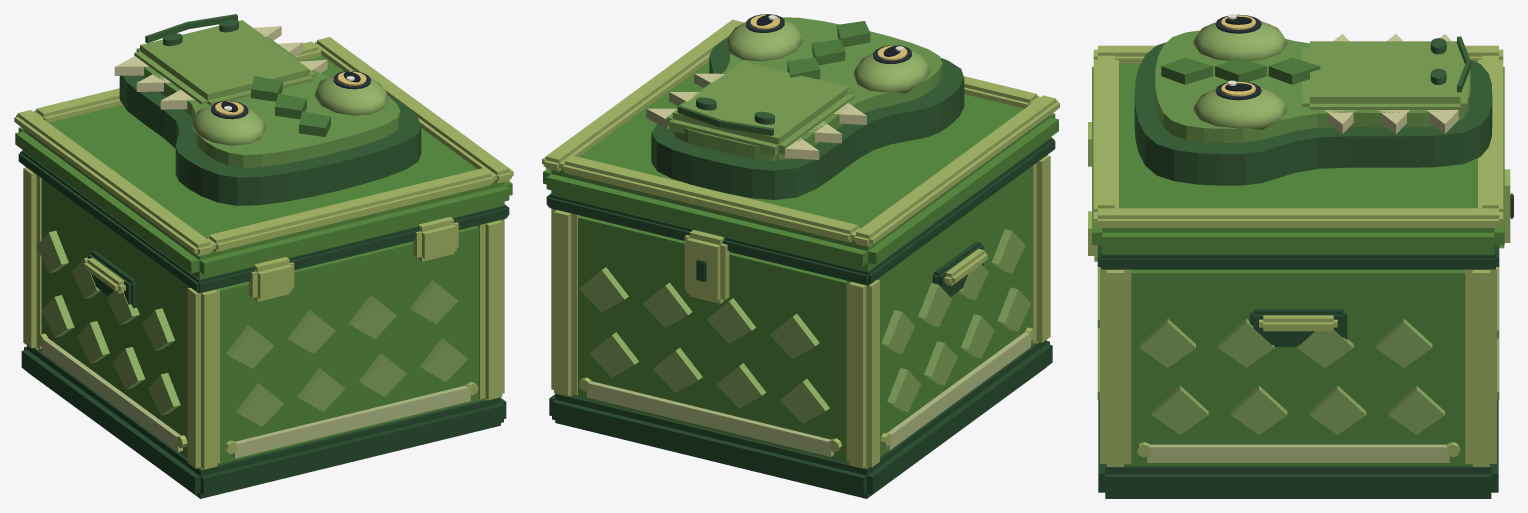
The model's file is crate_crocodilo.fbx.
3 views of the same model, side by side, from view 1: azimuth 30°, elevation 25°; view 2: azimuth 150°, elevation 25°; view 3: azimuth 270°, elevation 25° (orthographic). The views are drawn at different scales.
Visible parts, largest first — view 1: crate_crocodilo_caixa; view 2: crate_crocodilo_caixa; view 3: crate_crocodilo_caixa.
Boxes of the visible parts, left/top/right/bottom form: crate_crocodilo_caixa: left=14, top=14, right=513, bottom=498; crate_crocodilo_caixa: left=542, top=14, right=1059, bottom=498; crate_crocodilo_caixa: left=1088, top=14, right=1513, bottom=498.
Size of the model in its own units: 2.68 by 2.56 by 2.7.
1 material, 1 textured.
